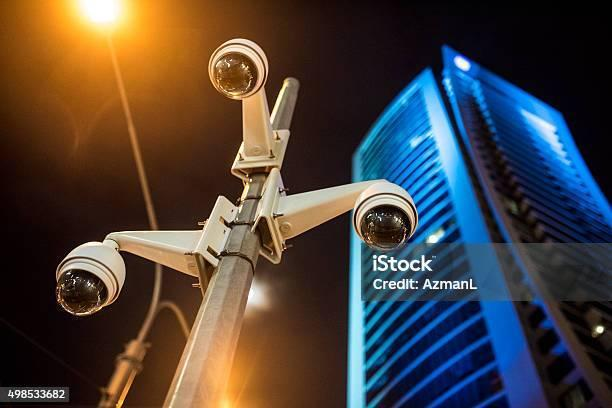360-Cam: (52, 240, 129, 317), (351, 185, 420, 253), (204, 36, 272, 104)
